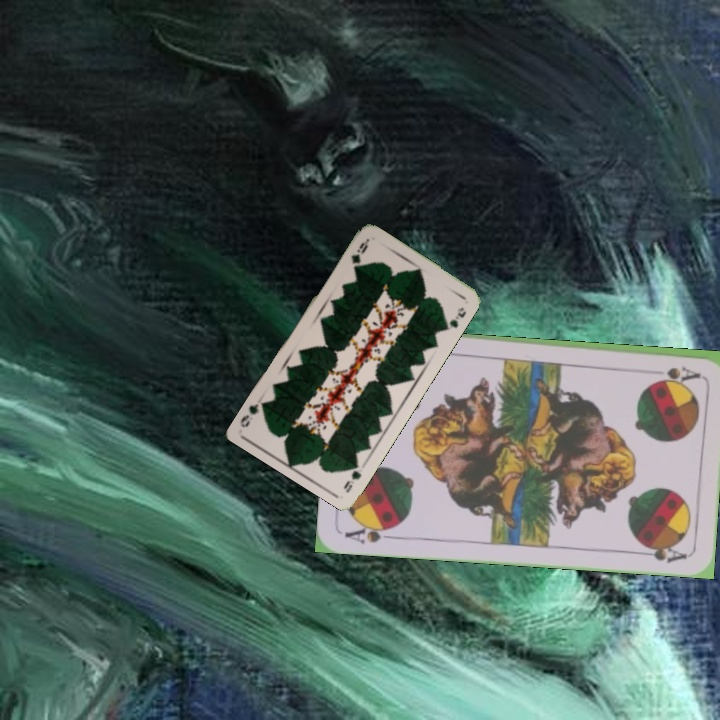G9: (339, 456, 364, 495), (347, 237, 370, 266)
SA: (340, 520, 400, 547), (662, 362, 701, 383)
